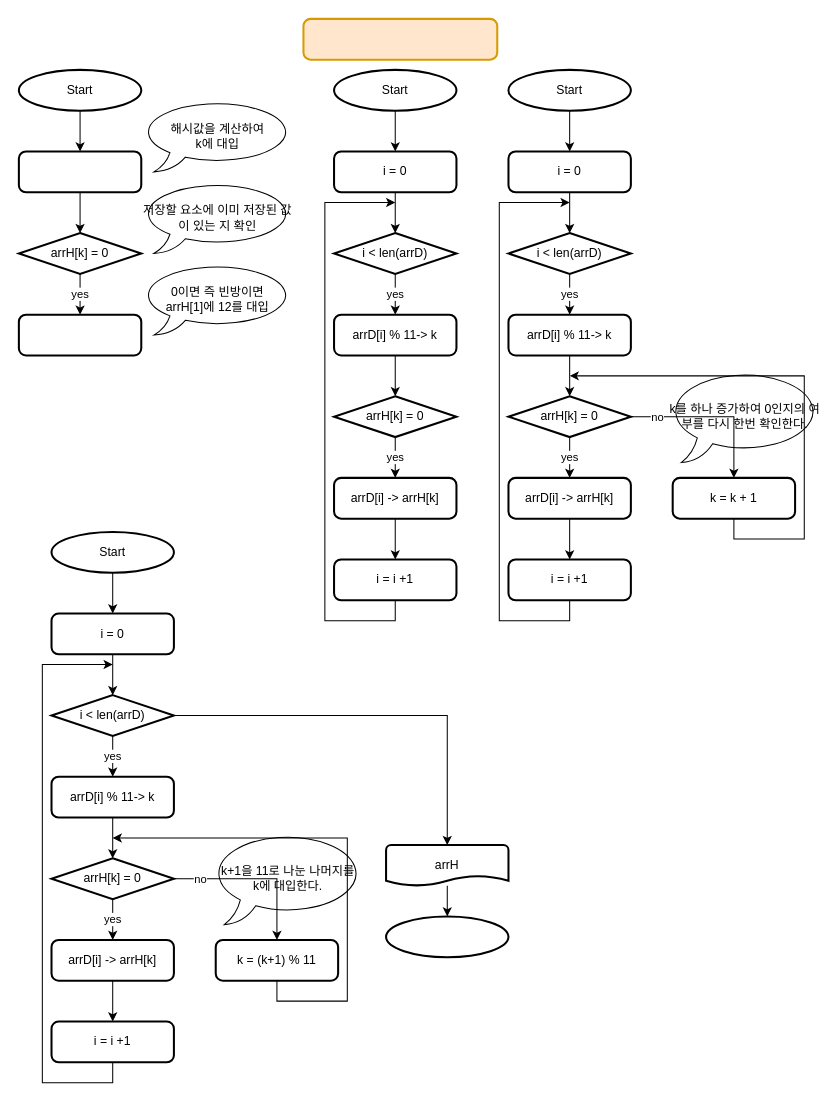
Image size: 839x1109. Some labels were removed from this diagram. The centre of each missing label's shape, as x and y in pixels:
"arrD[0] % 11-> k" goes at (x=79, y=171).
"arrD[0] -> arrH[k]" goes at (x=79, y=334).
"end" goes at (x=447, y=936).
"Hash Search" goes at (x=400, y=38).
